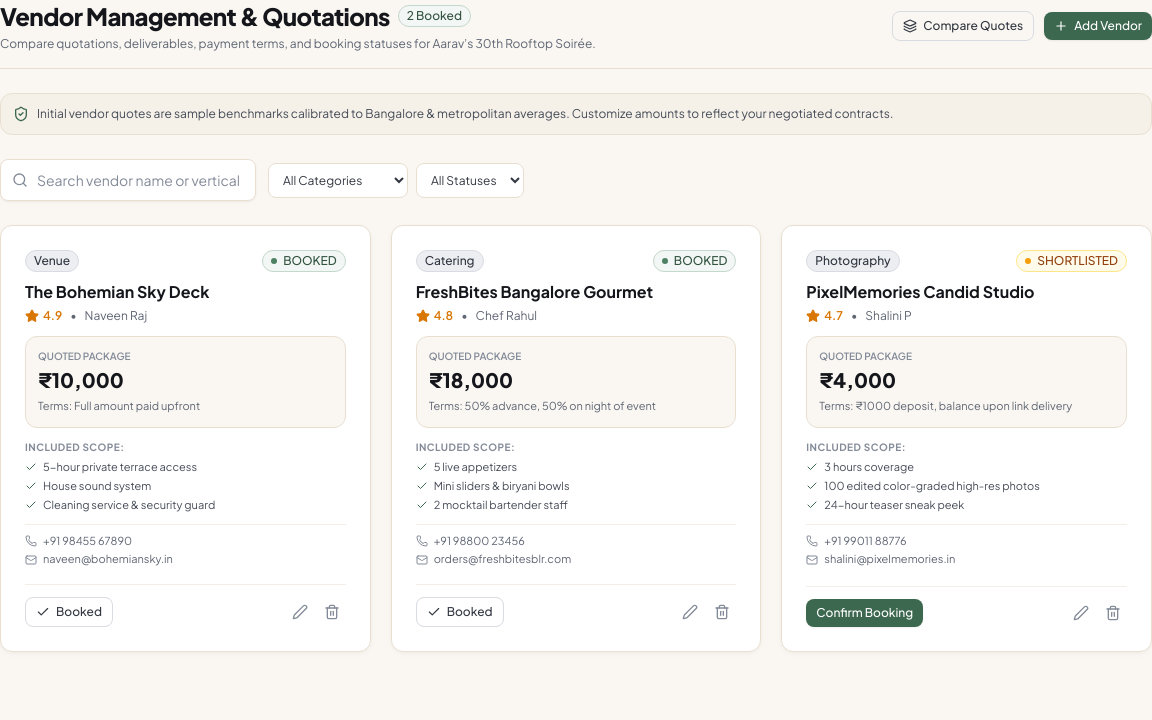
Test: VendorsPage Feature Tests › opens and closes the Side-by-Side Comparison Matrix modal
What coordinates should you click on to do the following:
click the button "Compare Quotes"
I would click on:
 (963, 26)
Its box is [892,11,1034,41].
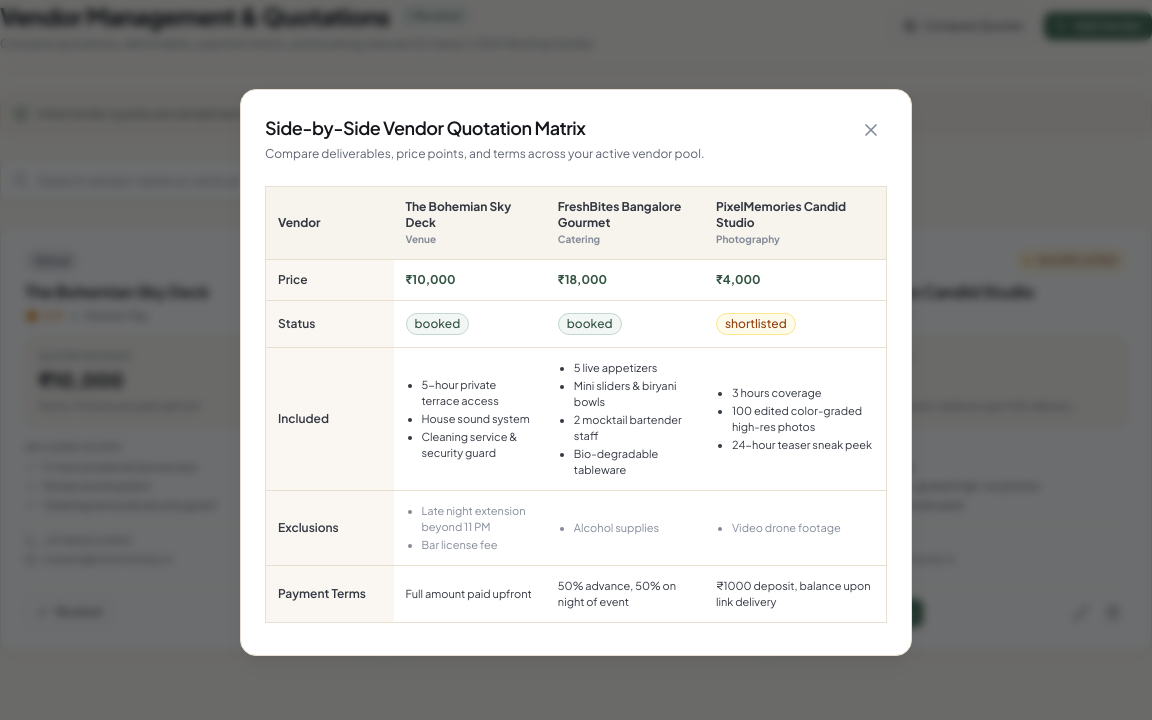
Expected: the dialog "Side-by-Side Vendor Quotation Matrix" is shown, [240,88,912,656]
Expected: the table is shown, [265,186,887,622]
What coordinates should you click on to do the following:
click the button named "Close dialog"
I would click on:
 (871, 130)
Its box is [855,114,887,146].
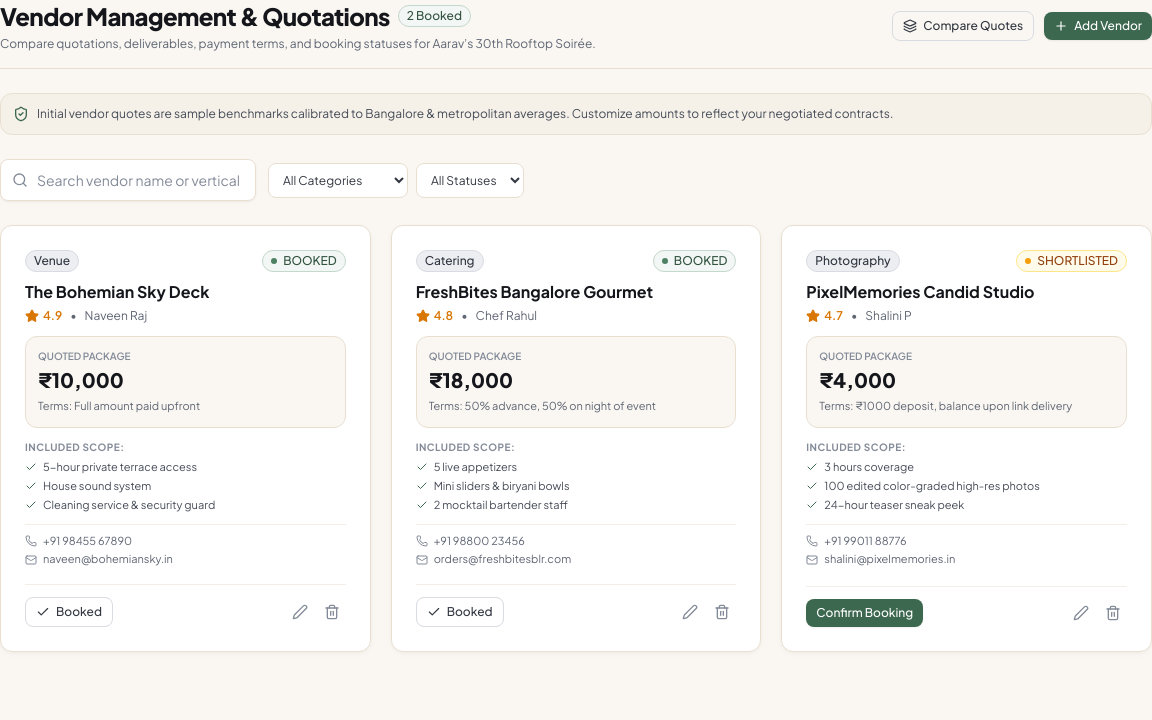
Expected: the heading "Side-by-Side Vendor Quotation Matrix" is gone
